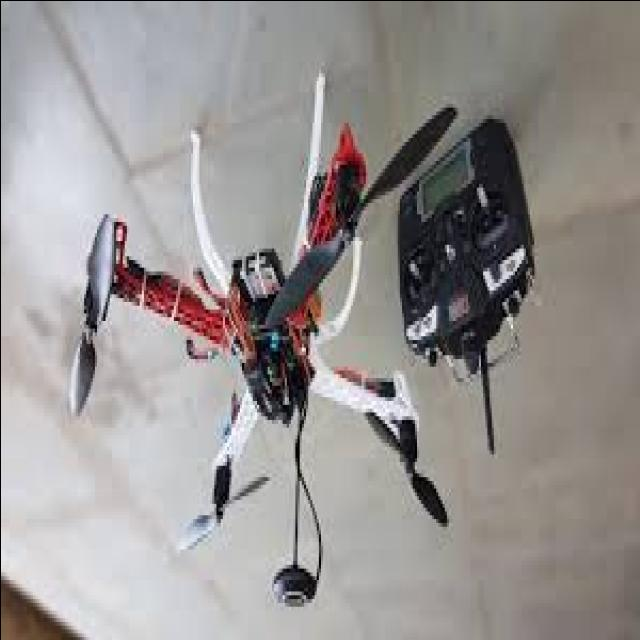drone: (58, 65, 464, 548)
